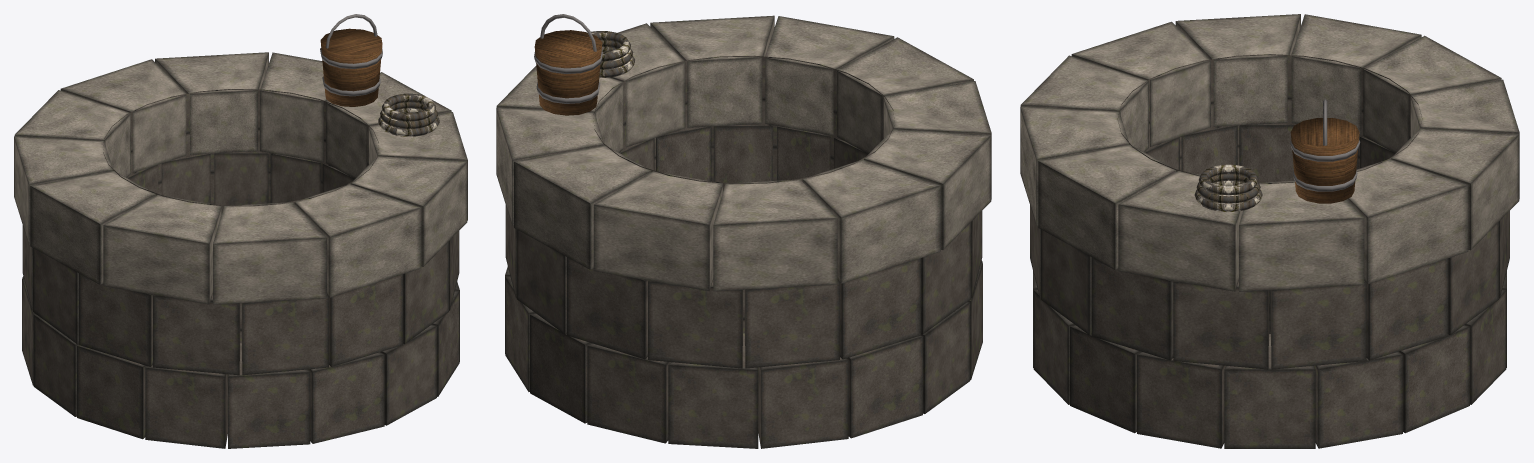
File: well.glb
3 views of the same model, side by side, from view 1: azimuth 30°, elevation 25°; view 2: azimuth 150°, elevation 25°; view 3: azimuth 270°, elevation 25° (orthographic). The views are drawn at different scales.
Visible parts, largest first — view 1: well; view 2: well; view 3: well.
Part boxes in pixels (x1,y1,x2,y2): well: (14,14,467,448); well: (496,14,991,448); well: (1020,14,1519,448).
Bounding box in the file's own units: 1.45 × 1.02 × 1.45.
Materials: 6 (4 with a texture image).
